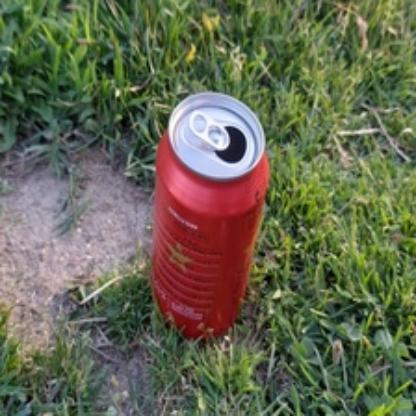Can: (151, 92, 271, 340)
